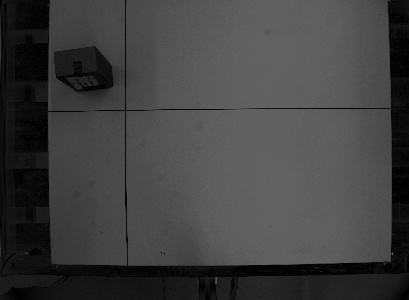b6: (51, 43, 114, 94)
